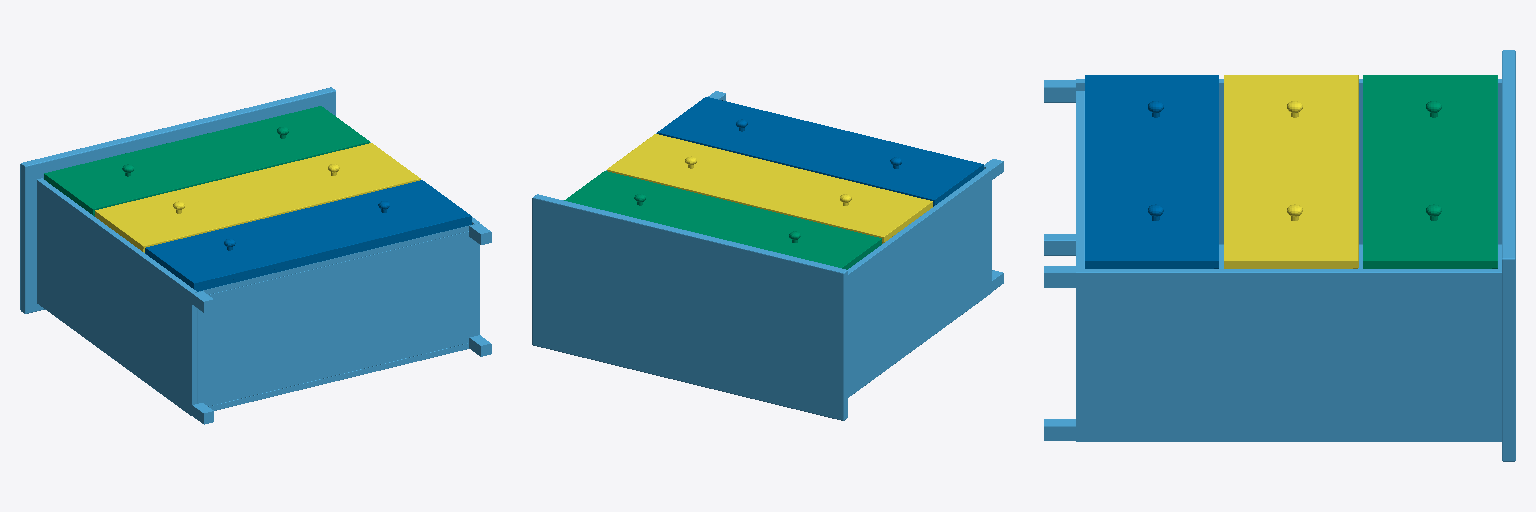
robot.urdf — 140:
<robot name="140">


	<link name="0:virtual">
		<visual>
			<origin xyz="0.0 0.0 0.0" rpy="0 0 0"/>
			<geometry>
				<cylinder length="0" radius="0"/>
			</geometry>
		</visual>
	</link>


	<link name="1:static">
		<visual>
			<origin xyz="-0.0 -0.0 -0.0" rpy="0 0 0"/>
			<geometry>
				<mesh filename="../raw_data/140/part_meshes/1.dae" />
			</geometry>
		</visual>
	</link>


	<link name="2:drawer 1">
		<visual>
			<origin xyz="-1.996755599975586e-06 -0.8599999845027924 -0.008573994040489197" rpy="0 0 0"/>
			<geometry>
				<mesh filename="../raw_data/140/part_meshes/2.dae" />
			</geometry>
		</visual>
	</link>


	<link name="3:drawer 2">
		<visual>
			<origin xyz="-1.996755599975586e-06 -0.549999013543129 -0.008573994040489197" rpy="0 0 0"/>
			<geometry>
				<mesh filename="../raw_data/140/part_meshes/3.dae" />
			</geometry>
		</visual>
	</link>


	<link name="4:drawer 3">
		<visual>
			<origin xyz="-1.996755599975586e-06 -0.23999899625778198 -0.008573994040489197" rpy="0 0 0"/>
			<geometry>
				<mesh filename="../raw_data/140/part_meshes/4.dae" />
			</geometry>
		</visual>
	</link>


	<joint name="0:virtual::1:static" type="fixed">
		<parent link="0:virtual"/>
		<child link="1:static"/>
		<origin xyz="0.0 0.0 0.0" rpy="0 0 0"/>
	</joint>


	<joint name="0:virtual::2:drawer 1_translation" type="prismatic">
		<parent link="0:virtual"/>
		<child link="2:drawer 1"/>
		<origin xyz="1.996755599975586e-06 0.8599999845027924 0.008573994040489197" rpy="0 0 0"/>
		<limit lower="-0.0004999935626984" upper="0.354500006437302" effort="10" velocity="3"/>
		<axis xyz="0.0 0.0 1.0"/>
	</joint>


	<joint name="0:virtual::3:drawer 2_translation" type="prismatic">
		<parent link="0:virtual"/>
		<child link="3:drawer 2"/>
		<origin xyz="1.996755599975586e-06 0.549999013543129 0.008573994040489197" rpy="0 0 0"/>
		<limit lower="-0.0004999935626984" upper="0.354500006437302" effort="10" velocity="3"/>
		<axis xyz="0.0 0.0 1.0"/>
	</joint>


	<joint name="0:virtual::4:drawer 3_translation" type="prismatic">
		<parent link="0:virtual"/>
		<child link="4:drawer 3"/>
		<origin xyz="1.996755599975586e-06 0.23999899625778198 0.008573994040489197" rpy="0 0 0"/>
		<limit lower="-0.0004999935626984" upper="0.354500006437302" effort="10" velocity="3"/>
		<axis xyz="0.0 0.0 1.0"/>
	</joint>


</robot>

--- Facts derived from the render (not from the file) ---
Views: 3 orthographic renders of the robot side by side, from view 1: azimuth 30°, elevation 25°; view 2: azimuth 150°, elevation 25°; view 3: azimuth 270°, elevation 25°.
Robot: 140 — 5 links, 4 joints (3 prismatic, 1 fixed); root link 0:virtual; default pose: every joint at zero.
Visible links, largest first — view 1: 1:static, 4:drawer 3, 2:drawer 1, 3:drawer 2; view 2: 1:static, 3:drawer 2, 4:drawer 3, 2:drawer 1; view 3: 1:static, 2:drawer 1, 3:drawer 2, 4:drawer 3.
Link boxes in pixels (bbox=[...]): 1:static: bbox=[20, 87, 491, 424]; 4:drawer 3: bbox=[145, 180, 471, 291]; 2:drawer 1: bbox=[44, 106, 369, 215]; 3:drawer 2: bbox=[95, 143, 420, 252]; 1:static: bbox=[532, 91, 1003, 420]; 3:drawer 2: bbox=[607, 134, 932, 243]; 4:drawer 3: bbox=[657, 97, 983, 206]; 2:drawer 1: bbox=[564, 171, 881, 269]; 1:static: bbox=[1044, 50, 1515, 461]; 2:drawer 1: bbox=[1363, 75, 1497, 268]; 3:drawer 2: bbox=[1224, 75, 1358, 268]; 4:drawer 3: bbox=[1085, 75, 1218, 268].
Bounding box of the posed robot: 1.1 × 1.05 × 0.5005 m (x, y, z).
4 mesh visuals loaded from 4 distinct referenced files (4 Collada DAE).